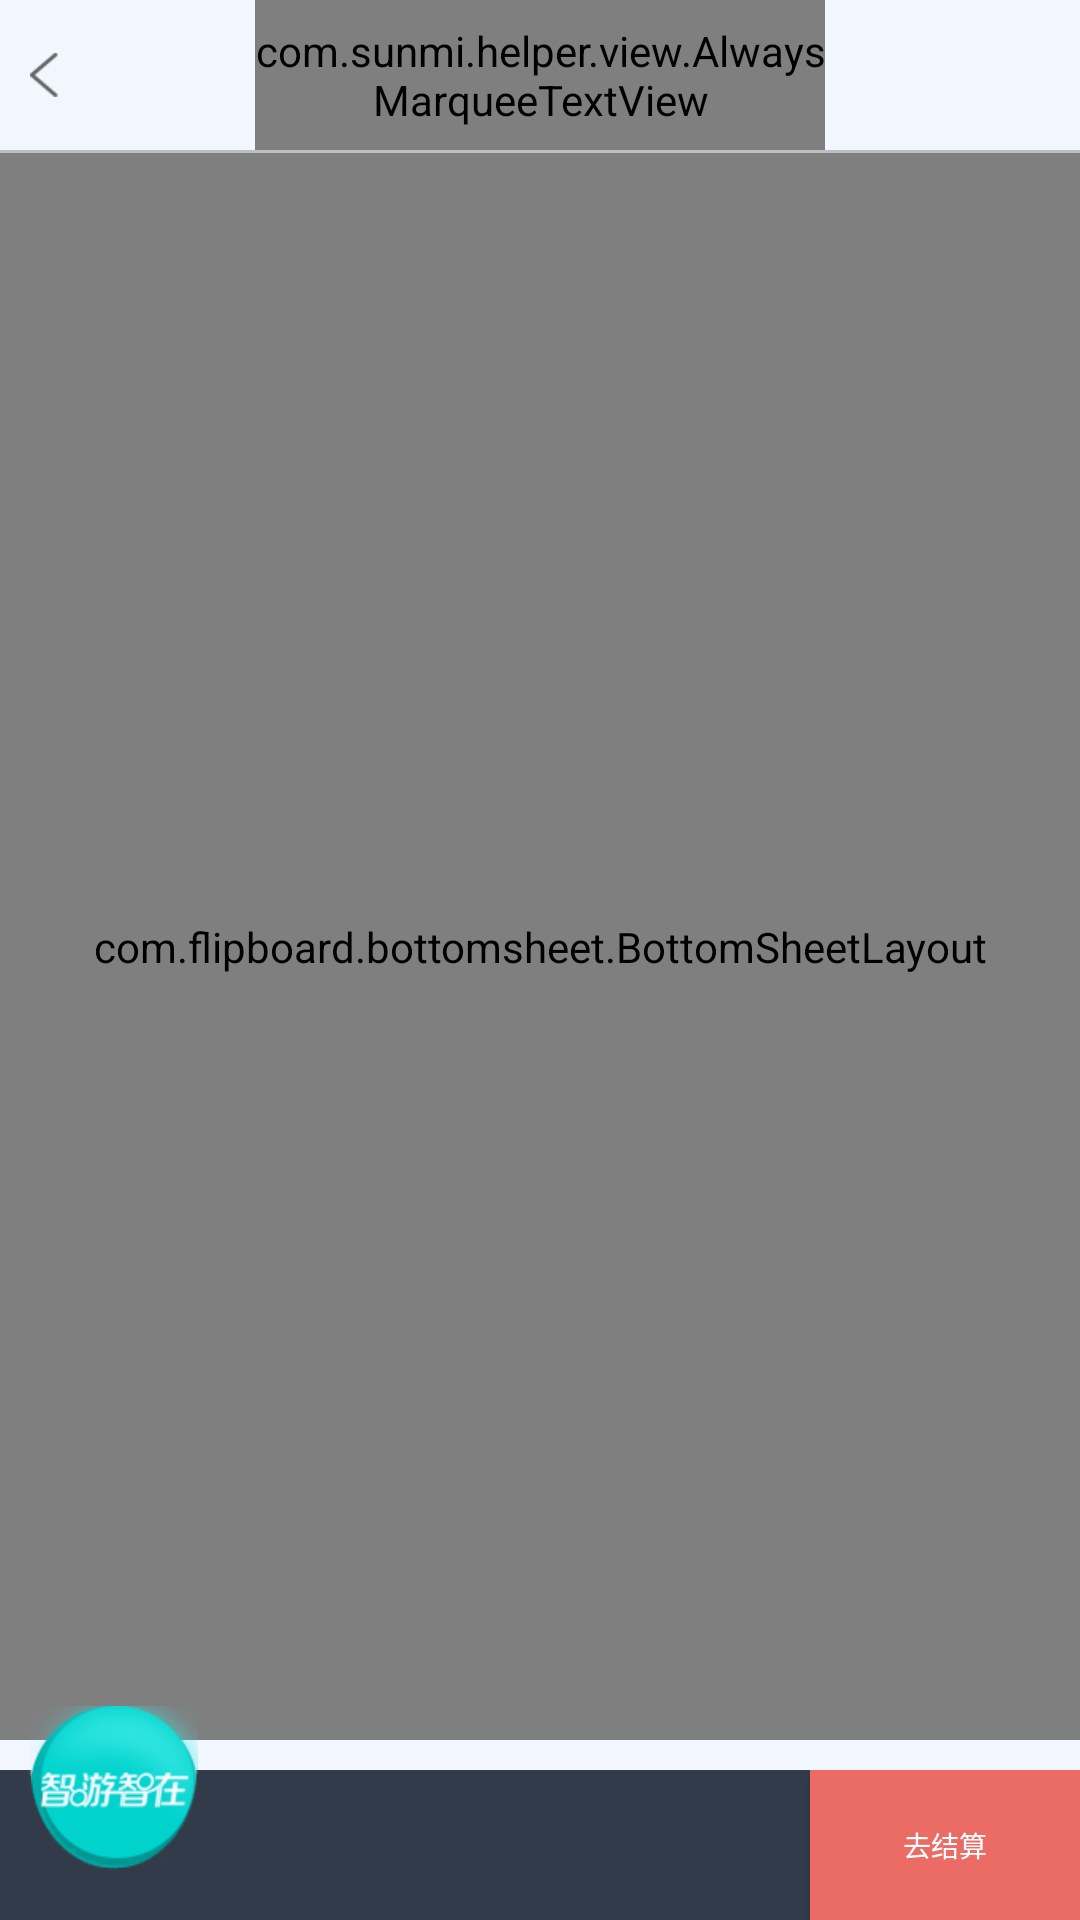

Icons on this 1080×1920 Android screen, each with its box as box(x1, y1, x2, y2):
prosale back: box(30, 53, 58, 97)
